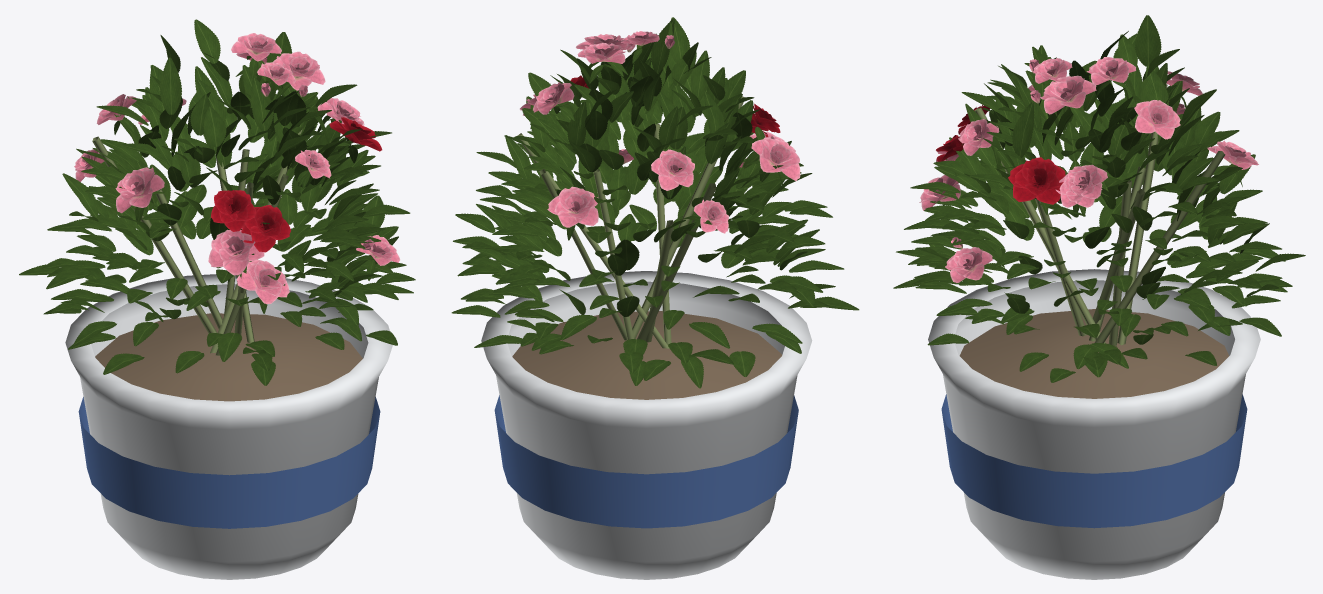
Rendered from yh_pot.glb.
3 views of the same model, side by side, from view 1: azimuth 30°, elevation 25°; view 2: azimuth 150°, elevation 25°; view 3: azimuth 270°, elevation 25° (orthographic).
Visible parts, largest first — view 1: yh_pot_花叶, yh_pot_青花瓷, yh_pot_青花蓝, yh_pot_土, yh_pot_茎; view 2: yh_pot_花叶, yh_pot_青花瓷, yh_pot_青花蓝, yh_pot_土, yh_pot_茎; view 3: yh_pot_花叶, yh_pot_青花瓷, yh_pot_青花蓝, yh_pot_土, yh_pot_茎.
Boxes of the visible parts, x1=… form: yh_pot_花叶: x1=19, y1=19, x2=415, y2=385; yh_pot_青花瓷: x1=65, y1=274, x2=392, y2=579; yh_pot_青花蓝: x1=78, y1=397, x2=380, y2=528; yh_pot_土: x1=95, y1=313, x2=362, y2=401; yh_pot_茎: x1=92, y1=129, x2=302, y2=355; yh_pot_花叶: x1=451, y1=17, x2=859, y2=388; yh_pot_青花瓷: x1=481, y1=271, x2=812, y2=579; yh_pot_青花蓝: x1=494, y1=395, x2=798, y2=528; yh_pot_土: x1=512, y1=311, x2=781, y2=399; yh_pot_茎: x1=517, y1=96, x2=744, y2=348; yh_pot_花叶: x1=893, y1=15, x2=1305, y2=382; yh_pot_青花瓷: x1=928, y1=269, x2=1260, y2=579; yh_pot_青花蓝: x1=941, y1=394, x2=1247, y2=528; yh_pot_土: x1=959, y1=309, x2=1228, y2=398; yh_pot_茎: x1=974, y1=84, x2=1225, y2=345.
Size of the model in its own units: 0.7771 by 1 by 0.7554.
Materials: 5 (1 with a texture image).
